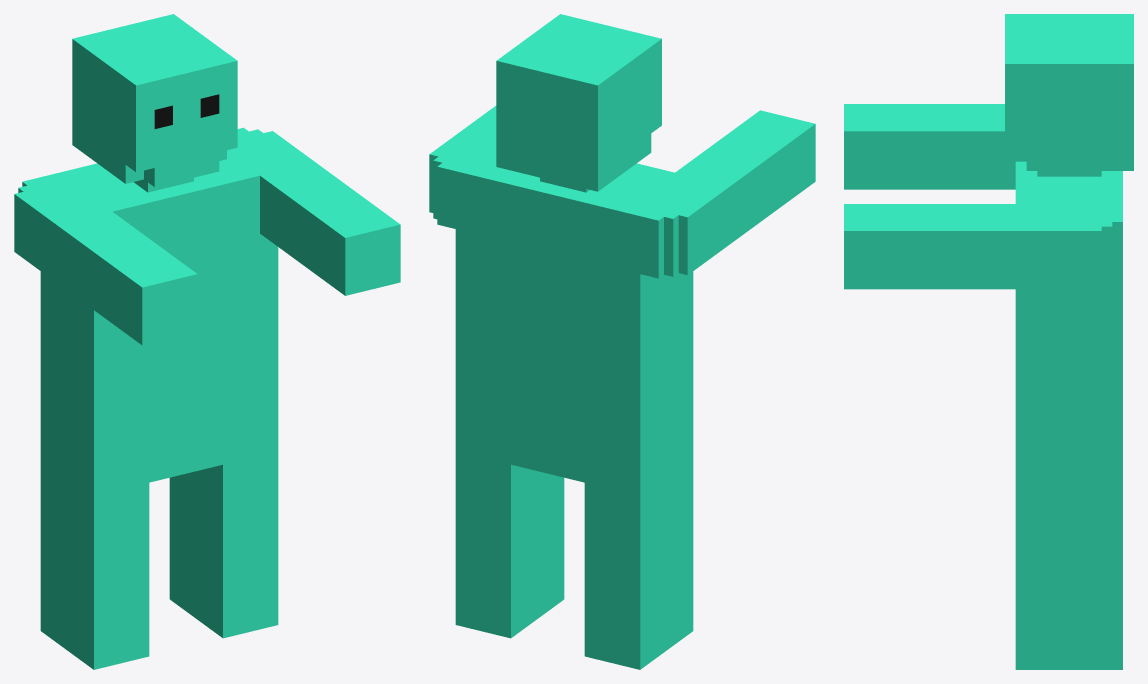
The model's file is zombie.obj.
3 renders of one model, left to right at view 1: azimuth 30°, elevation 25°; view 2: azimuth 150°, elevation 25°; view 3: azimuth 270°, elevation 25°, orthographic.
Bounding box in the file's own units: 28 × 60 × 27.
